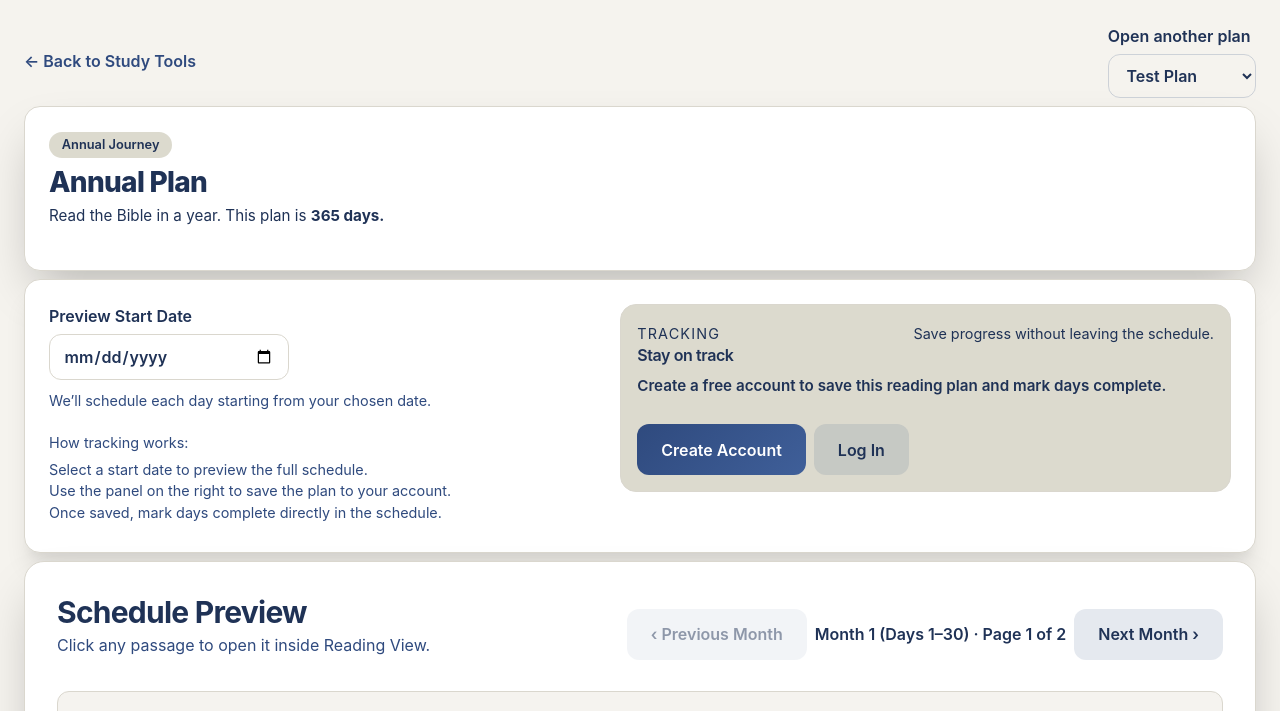
ReadingPlanView.vue › Pagination › disables next button on last page
This screenshot has width=1280, height=711.
Note: Navigate to last page
Click the button "Next Month ›": (1149, 634) [1074, 609, 1223, 660]
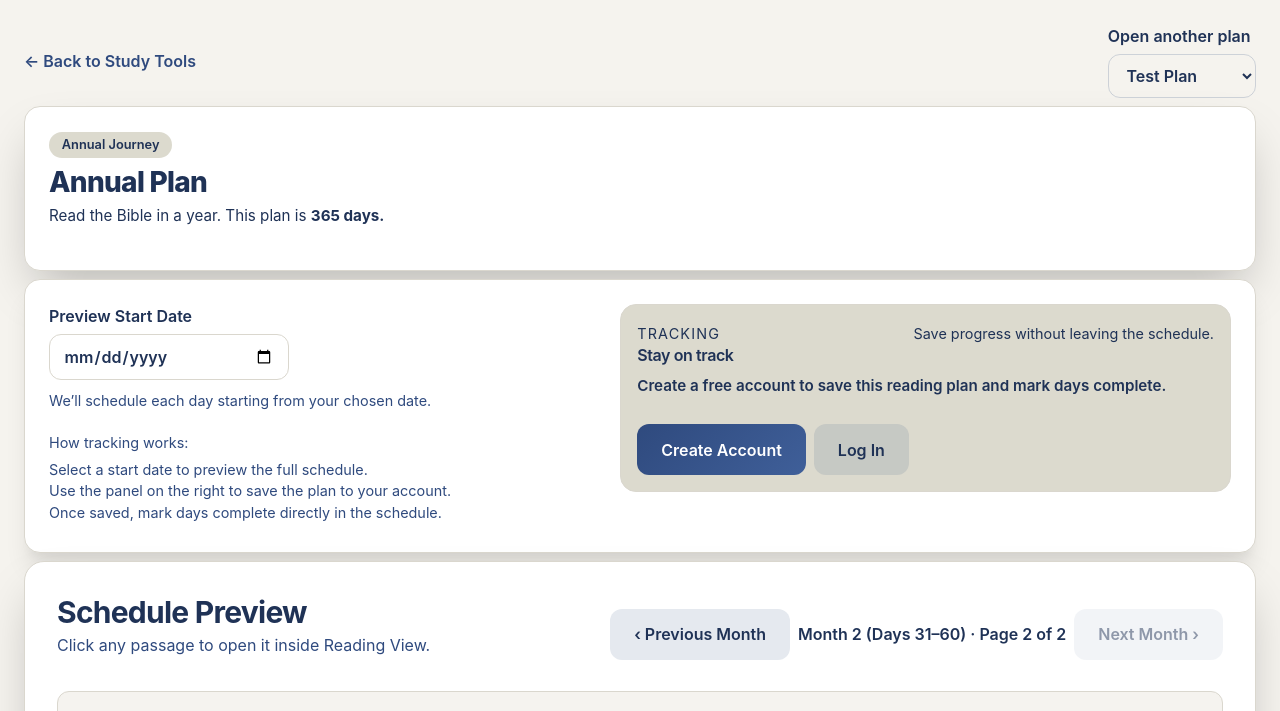
Now the button "Next Month ›" is disabled, box [1074, 609, 1223, 660]
